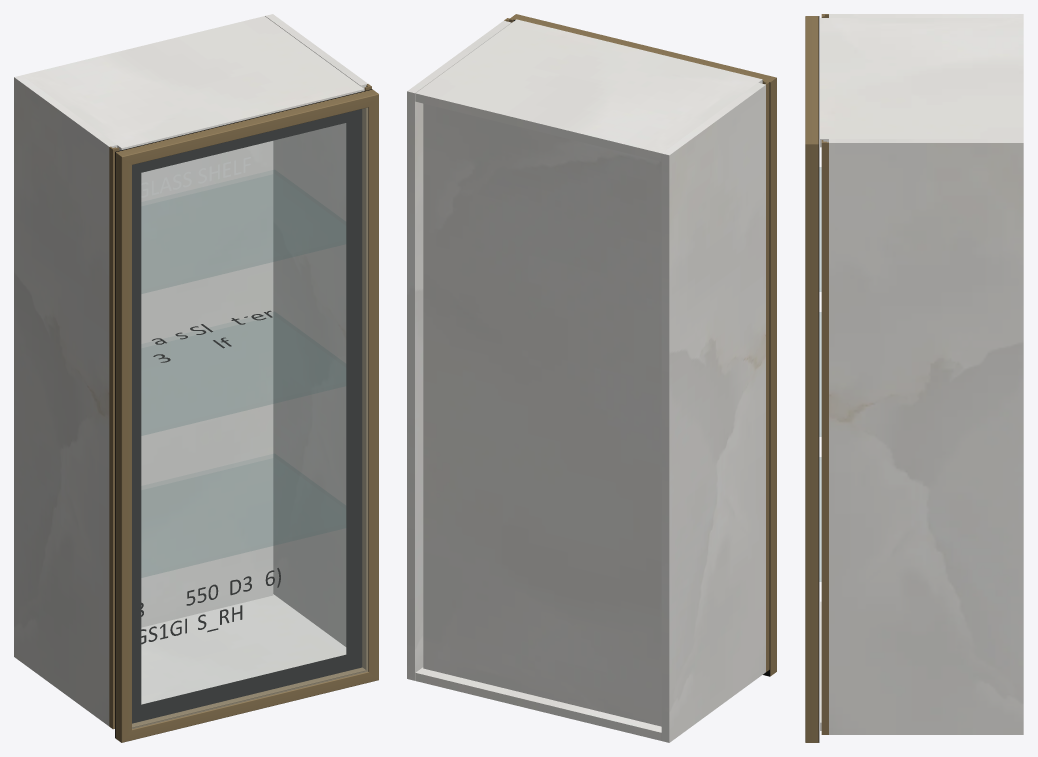
Rendered from WC-SH-NHX-GL-3SG-RHS-XXX-500-1085-336-15.glb.
The picture shows the model from 3 angles, left to right: view 1: azimuth 30°, elevation 25°; view 2: azimuth 150°, elevation 25°; view 3: azimuth 270°, elevation 25°; orthographic projection. The views are drawn at different scales.
Visible parts, largest first — view 1: Object_node_10, TP_node_2, TP_node_0, TP_node_1, Neon 22 Profile ALU PROF NEON 20 L21XH22.5MM 3MTR S2/405 SEC (×4), TP, Object_node_12, TP_node, Object_node_14, 2D text_node_1; view 2: TP_node_2, TP_node_0, TP, TP_node_1, Neon 22 Profile ALU PROF NEON 20 L21XH22.5MM 3MTR S2/405 SEC (×2), TP_node, Object_node_14, Object_node_12; view 3: TP_node_1, TP, Neon 22 Profile ALU PROF NEON 20 L21XH22.5MM 3MTR S2/405 SEC (×2), Object_node_20, Object_node_12, TP_node_0.
Part boxes in pixels (x1,y1,x2,y2): Object_node_10: (132,108,367,728); TP_node_2: (141,141,273,627); TP_node_0: (14,75,117,726); TP_node_1: (265,14,367,646); Neon 22 Profile ALU PROF NEON 20 L21XH22.5MM 3MTR S2/405 SEC (×4): (115,89,378,742); TP: (22,16,364,150); Object_node_12: (115,89,372,738); TP_node: (141,594,346,704); Object_node_14: (109,146,119,729); 2D text_node_1: (141,157,250,197); TP_node_2: (423,103,661,726); TP_node_0: (661,82,765,742); TP: (415,19,762,161); TP_node_1: (407,20,511,680); Neon 22 Profile ALU PROF NEON 20 L21XH22.5MM 3MTR S2/405 SEC (×2): (510,14,776,676); TP_node: (415,667,661,740); Object_node_14: (762,80,769,671); Object_node_12: (513,20,770,676); TP_node_1: (829,139,1023,734); TP: (820,18,1023,147); Neon 22 Profile ALU PROF NEON 20 L21XH22.5MM 3MTR S2/405 SEC (×2): (805,16,818,742); Object_node_20: (821,140,828,734); Object_node_12: (818,16,819,742); TP_node_0: (829,14,1023,17).
Size of what is drawn, in the model's own units: 0.5 by 1.09 by 0.358.
Materials: 7 (1 with a texture image).
